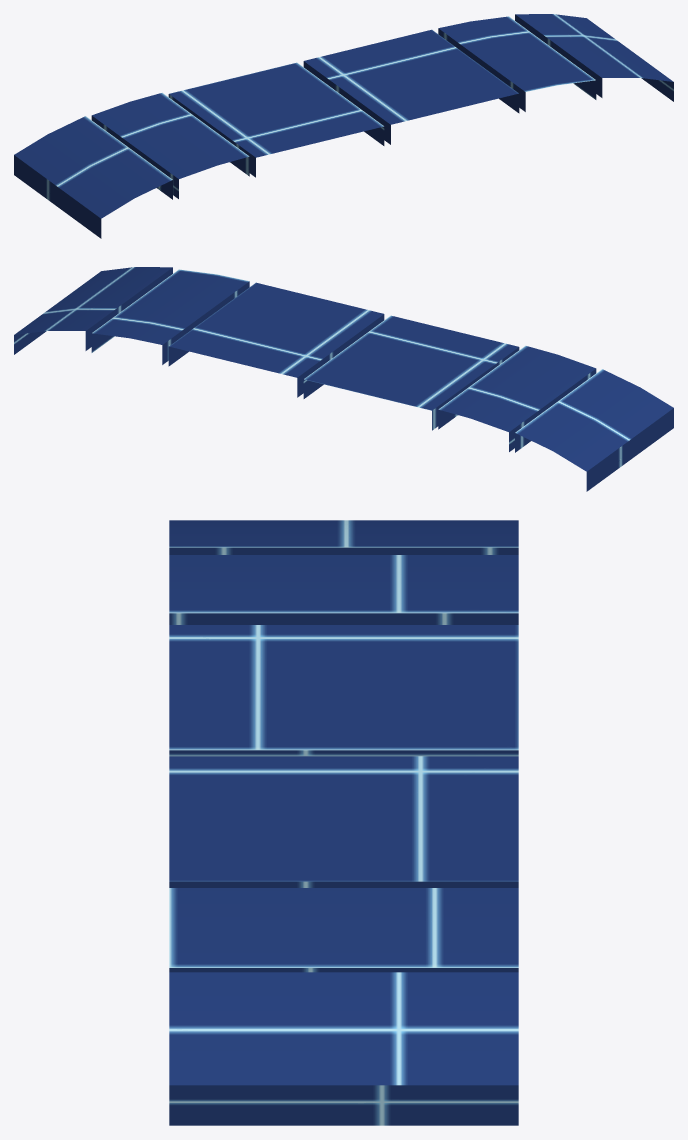
The model's file is Plains_BrickMode_00.fbx.
3 renders of one model, top to bottom at view 1: azimuth 30°, elevation 25°; view 2: azimuth 150°, elevation 25°; view 3: azimuth 270°, elevation 25°, orthographic. The views are drawn at different scales.
Visible parts, largest first — view 1: Plains_BrickMode_00; view 2: Plains_BrickMode_00; view 3: Plains_BrickMode_00.
Boxes of the visible parts, box(x1,y1,x2,y2) form: Plains_BrickMode_00: box(14, 14, 673, 238); Plains_BrickMode_00: box(14, 267, 673, 491); Plains_BrickMode_00: box(169, 520, 518, 1125).
Bounding box in the file's own units: 98.98 × 8.12 × 26.14.
